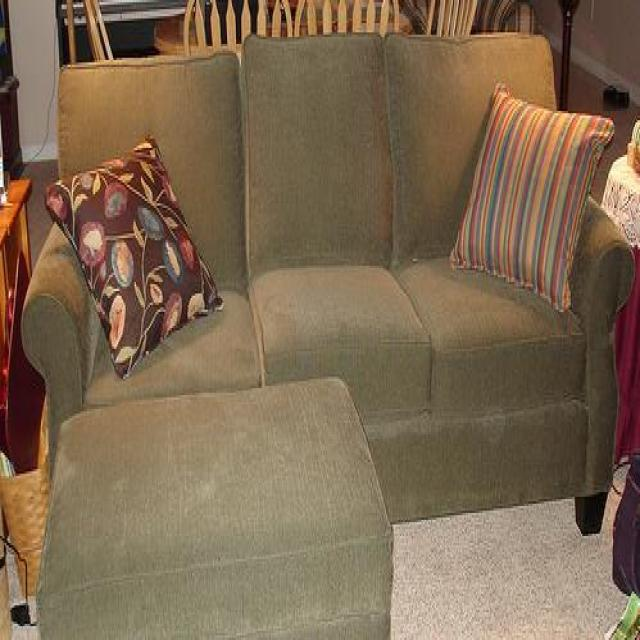sofa: (21, 19, 634, 542)
